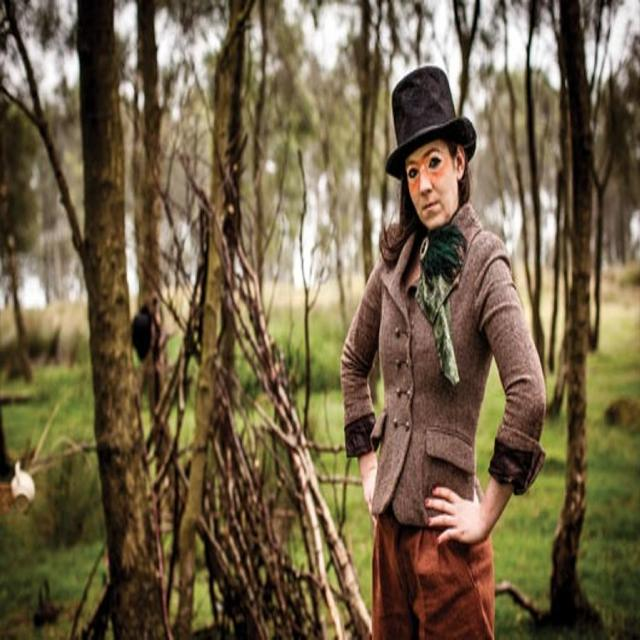nomask: (410, 116, 454, 221)
